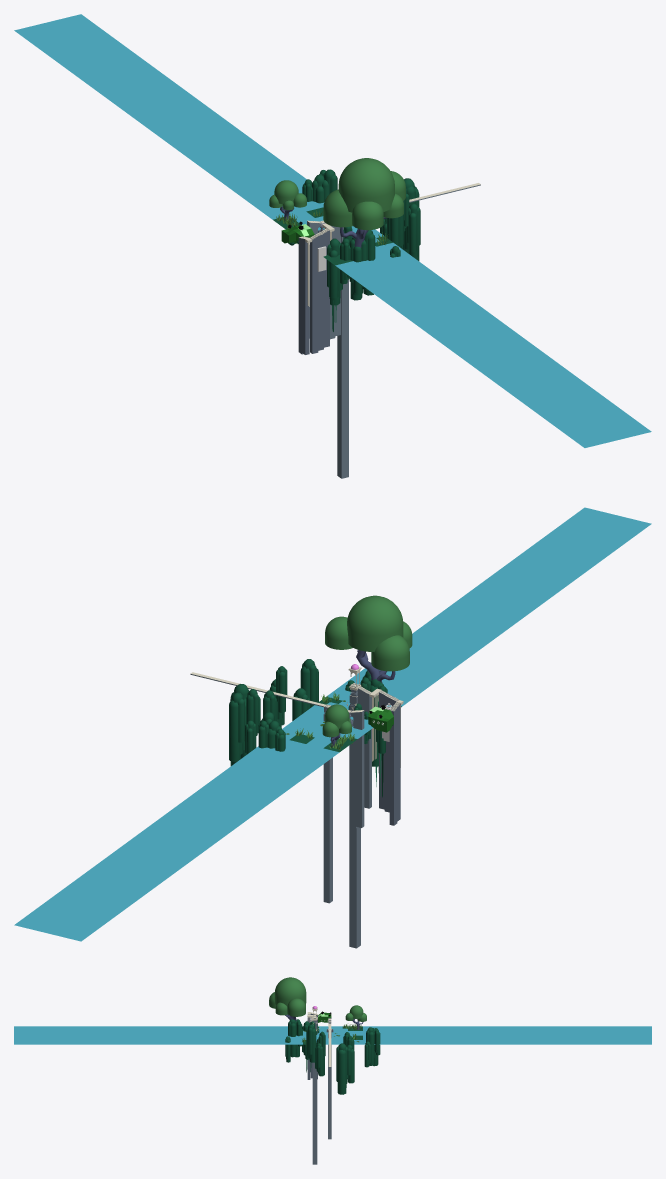
The model's file is Level 4 Reduced.fbx.
3 views of the same model, one above another, from view 1: azimuth 30°, elevation 25°; view 2: azimuth 150°, elevation 25°; view 3: azimuth 270°, elevation 25° (orthographic). The views are drawn at different scales.
Visible parts, largest first — view 1: Plane.025, Circle.033, Sphere.002, Cube.148, Cube.135, Cube.136, Circle.026, Sphere.006; view 2: Plane.025, Circle.033, Sphere.002, Cube.026, Cube.148, Cube.142, Cube.136, Circle.026, Cube.135, Cube.137, Sphere.004; view 3: Plane.025, Sphere.002, Circle.033, Cube.148, Cube.026, Sphere.004, Circle.026.
Part boxes in pixels (x1,y1,x2,y2): Plane.025: (14, 14, 651, 447); Circle.033: (323, 158, 405, 247); Sphere.002: (302, 169, 419, 331); Cube.148: (337, 227, 348, 478); Cube.135: (310, 229, 329, 353); Cube.136: (298, 238, 309, 354); Circle.026: (269, 180, 306, 220); Sphere.006: (406, 203, 420, 257); Plane.025: (14, 507, 651, 941); Circle.033: (325, 595, 412, 682); Sphere.002: (229, 666, 387, 797); Cube.026: (190, 672, 332, 903); Cube.148: (349, 695, 360, 948); Cube.142: (350, 710, 364, 828); Cube.136: (389, 704, 400, 825); Circle.026: (322, 704, 351, 747); Cube.135: (379, 691, 398, 812); Cube.137: (357, 687, 371, 808); Sphere.004: (300, 659, 318, 707); Plane.025: (14, 1026, 651, 1044); Sphere.002: (285, 1019, 380, 1094); Circle.033: (269, 977, 306, 1020); Cube.148: (312, 1022, 317, 1164); Cube.026: (328, 1027, 331, 1139); Sphere.004: (306, 1024, 316, 1062); Circle.026: (345, 1005, 366, 1029).
Bounding box in the file's own units: 3797 × 6108 × 19074.
